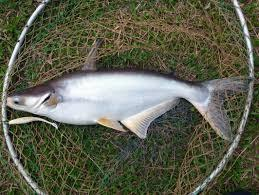Pangasius: (4, 50, 250, 144)
